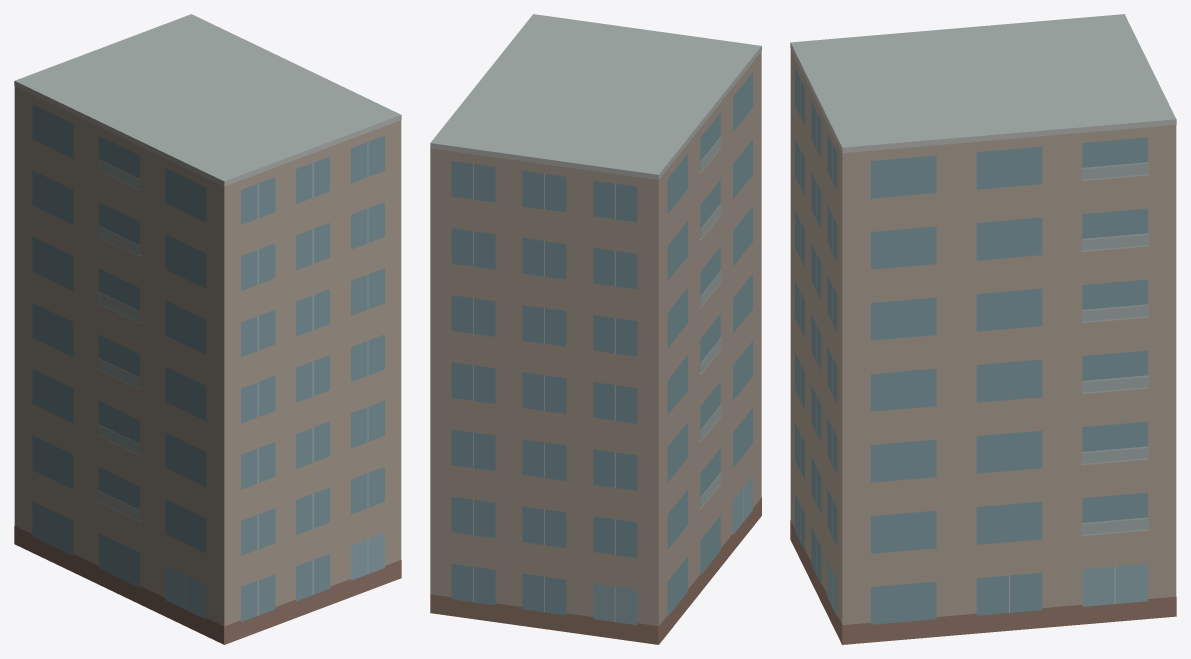
File: survey-upis-32635868.glb
3 views of the same model, side by side, from view 1: azimuth 30°, elevation 25°; view 2: azimuth 150°, elevation 25°; view 3: azimuth 270°, elevation 25° (orthographic). The views are drawn at different scales.
Parts seen in each view (by area): view 1: survey-upis-32635868.tmp; view 2: survey-upis-32635868.tmp; view 3: survey-upis-32635868.tmp.
Part boxes in pixels (x1=…): survey-upis-32635868.tmp: x1=14, y1=14, x2=401, y2=644; survey-upis-32635868.tmp: x1=430, y1=14, x2=761, y2=644; survey-upis-32635868.tmp: x1=790, y1=14, x2=1176, y2=644.
Size of the model in its own units: 12.64 by 21.9 by 15.42.
